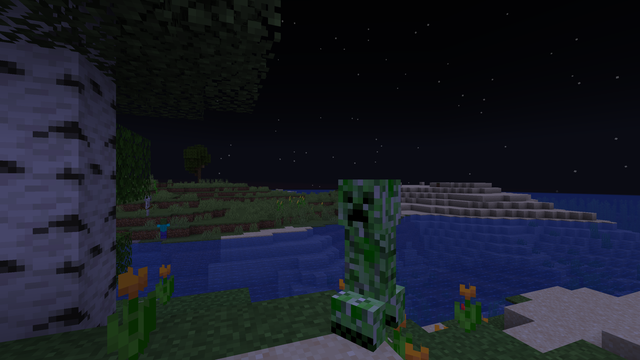creepers: (334, 171, 409, 347)
squelettes: (143, 195, 151, 215)
zombies: (159, 218, 167, 240)
